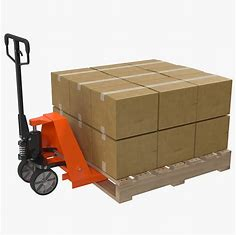Pallet Jack: (3, 31, 233, 204)
